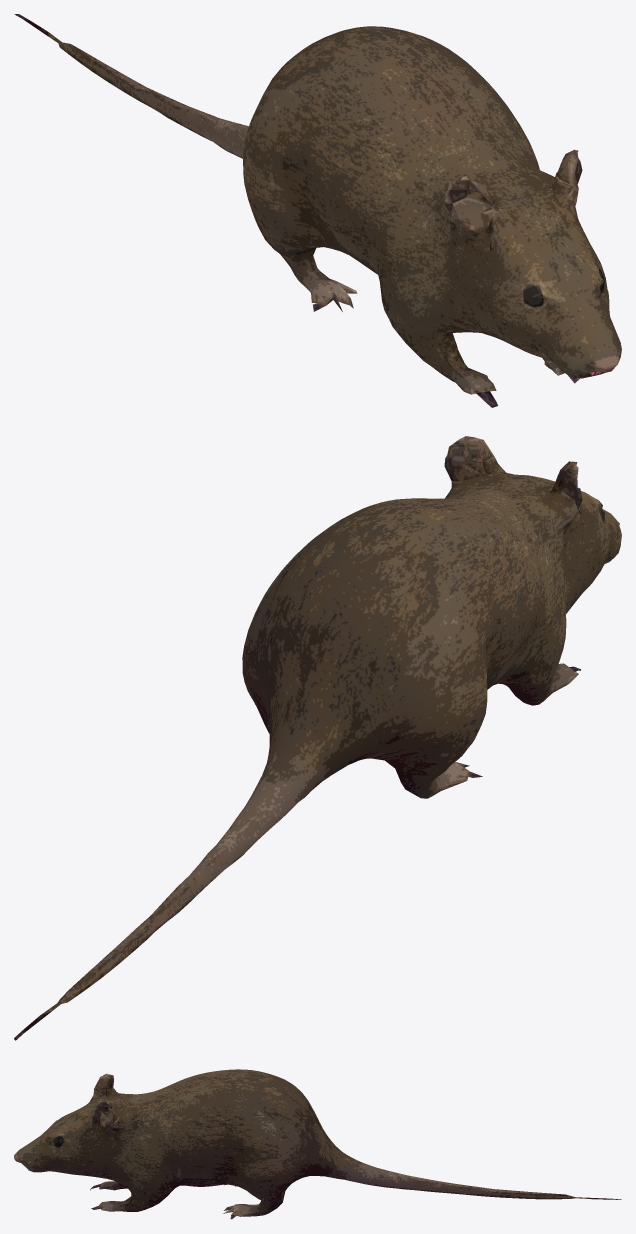
The model's file is street_rat.glb.
3 views of the same model, one above another, from view 1: azimuth 30°, elevation 25°; view 2: azimuth 150°, elevation 25°; view 3: azimuth 270°, elevation 25° (orthographic). The views are drawn at different scales.
Visible parts, largest first — view 1: mesh; view 2: mesh; view 3: mesh.
Part boxes in pixels (bbox=[...]): mesh: bbox=[14, 14, 621, 407]; mesh: bbox=[14, 436, 621, 1040]; mesh: bbox=[14, 1069, 621, 1219].
Size of the model in its own units: 13.2 by 14 by 61.32.
1 material, 1 textured.
